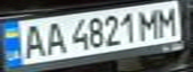1: (118, 10, 142, 43)
2: (103, 11, 124, 47)
4: (66, 16, 90, 52)
8: (84, 15, 106, 49)
A: (15, 21, 48, 60), (39, 19, 69, 56)
M: (151, 3, 184, 37), (136, 6, 163, 39)
